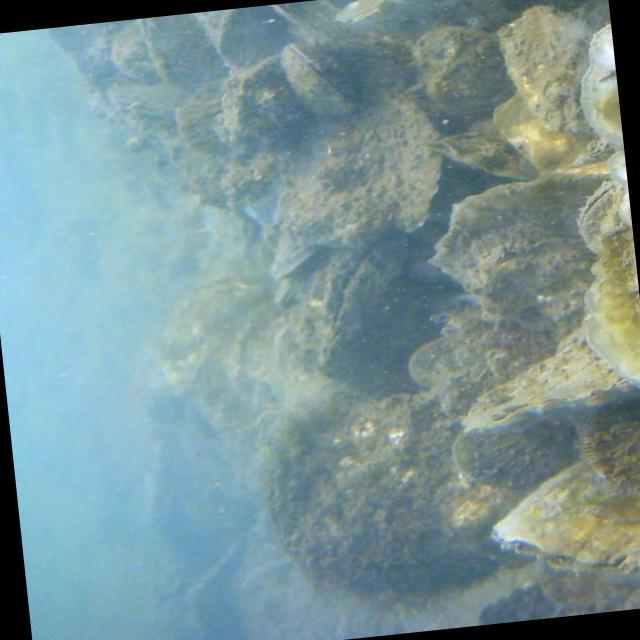Oyster- Indeterminate: (241, 368, 572, 638), (419, 136, 611, 339), (274, 75, 448, 259), (264, 283, 476, 407), (492, 459, 640, 572), (406, 7, 523, 131), (431, 299, 566, 402), (570, 25, 632, 230), (498, 8, 591, 140), (482, 79, 594, 185), (585, 188, 640, 387), (209, 51, 311, 152), (453, 416, 581, 492), (166, 72, 260, 172), (581, 400, 640, 492), (536, 565, 635, 618), (104, 20, 166, 94), (401, 333, 462, 393), (268, 233, 317, 287)
Oyster-Closed: (280, 206, 414, 378), (432, 105, 545, 195), (274, 25, 368, 128), (171, 252, 266, 347), (336, 0, 494, 24), (272, 275, 299, 309)
Oyster-Open: (162, 348, 258, 448), (567, 175, 620, 256)
